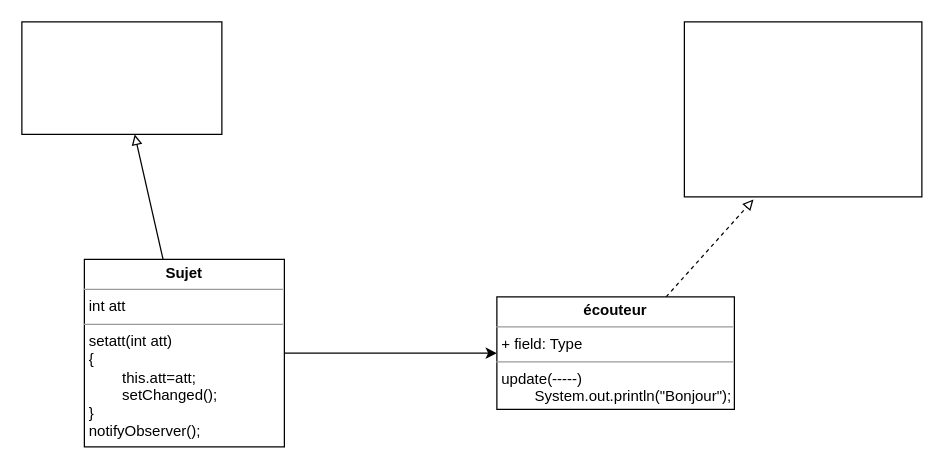
Image size: 944x469. Some labels were removed from this diagram. The box of each missing label's shape, as (x1, y1, x2, y2) in pixels:
<<Interface>> Observer update(argA,argB): (683, 21, 922, 197)
observable setChanged() notifyObserver(): (21, 21, 222, 134)
